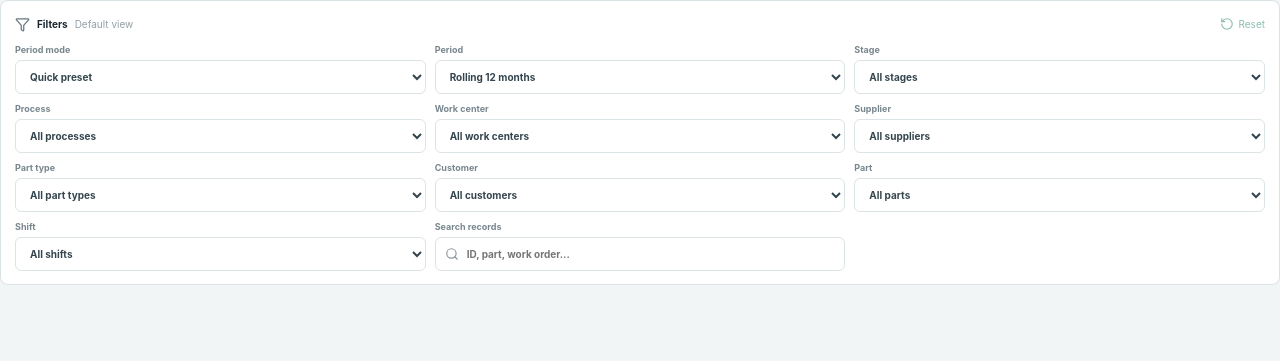
FilterPanel › applies a valid year range and blocks a reversed range
Select "Year range" in the dropdown labelled "Period mode" at (220, 77), box [15, 60, 426, 94]
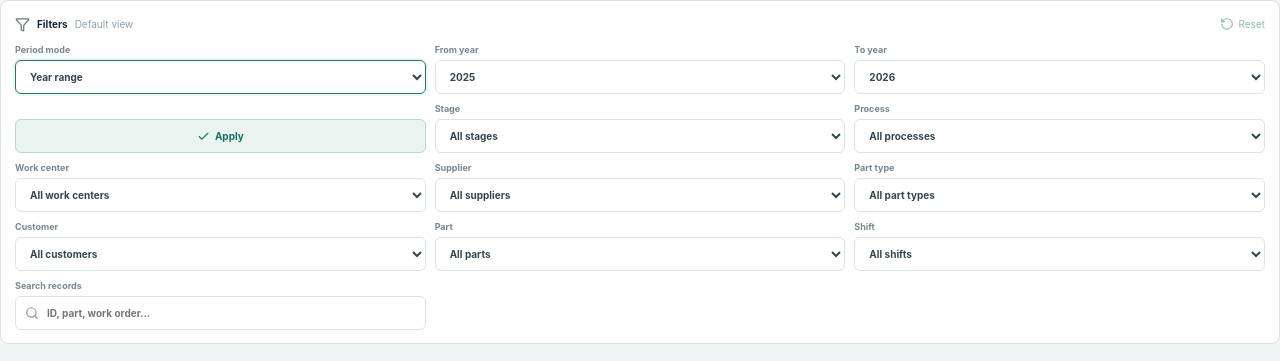
Select "2026" in the dropdown labelled "From year" at (640, 77), box [435, 60, 845, 94]
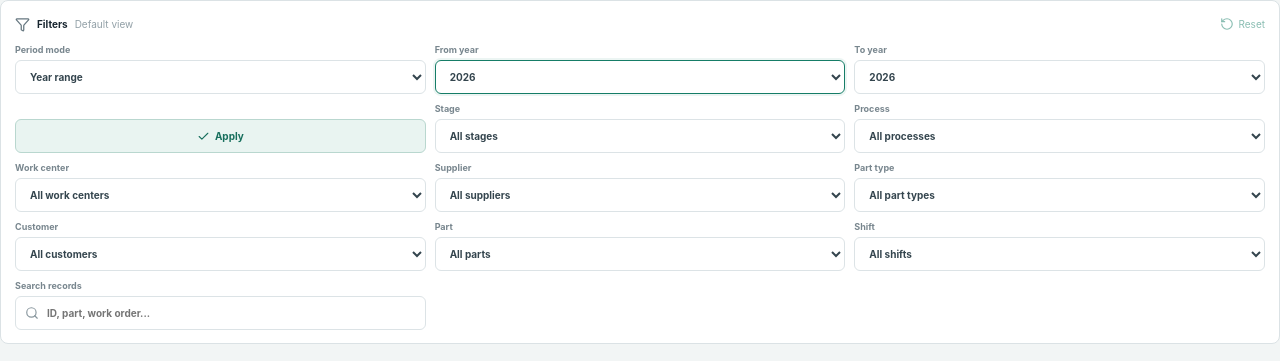
Select "2026" in the dropdown labelled "To year" at (1060, 77), box [854, 60, 1265, 94]
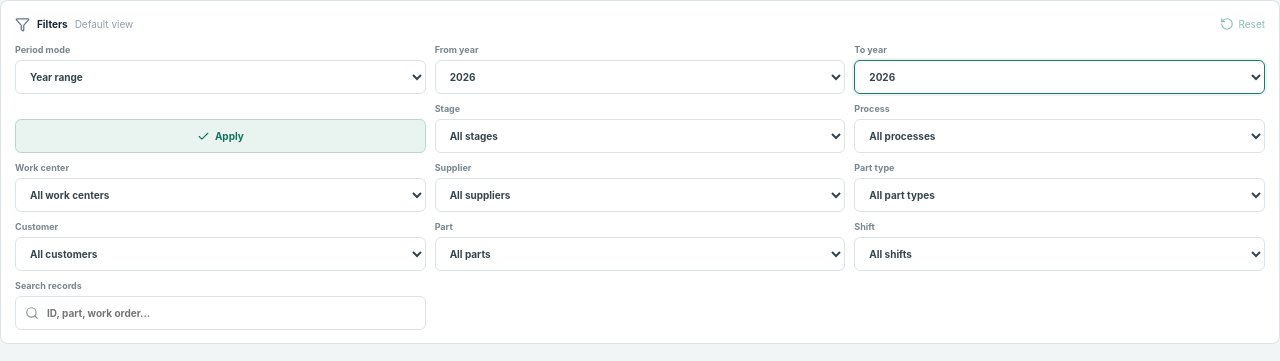
Click the button "Apply" at (220, 136), box [15, 119, 426, 153]
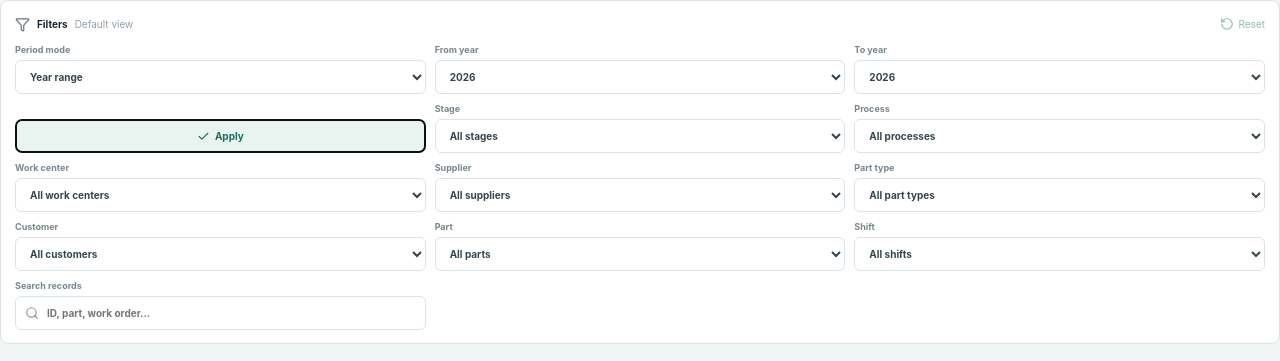
Select "2026" in the dropdown labelled "From year" at (640, 77), box [435, 60, 845, 94]
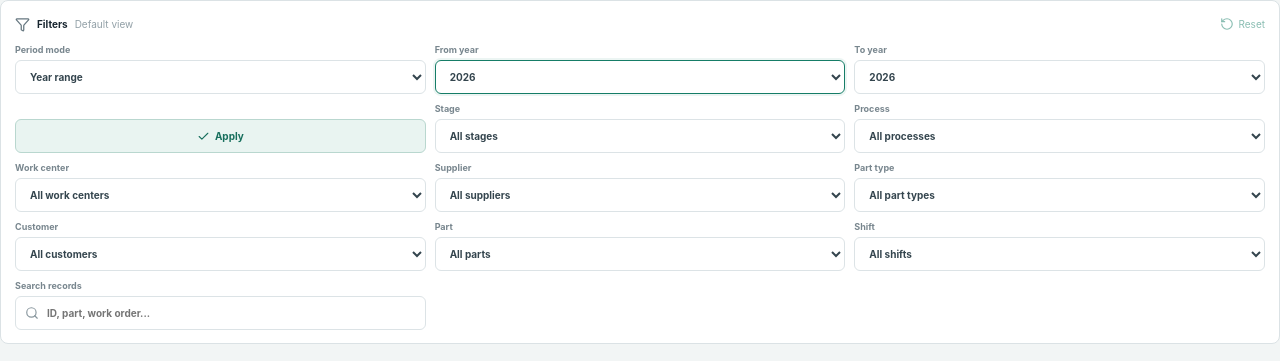
Select "2025" in the dropdown labelled "To year" at (1060, 77), box [854, 60, 1265, 94]
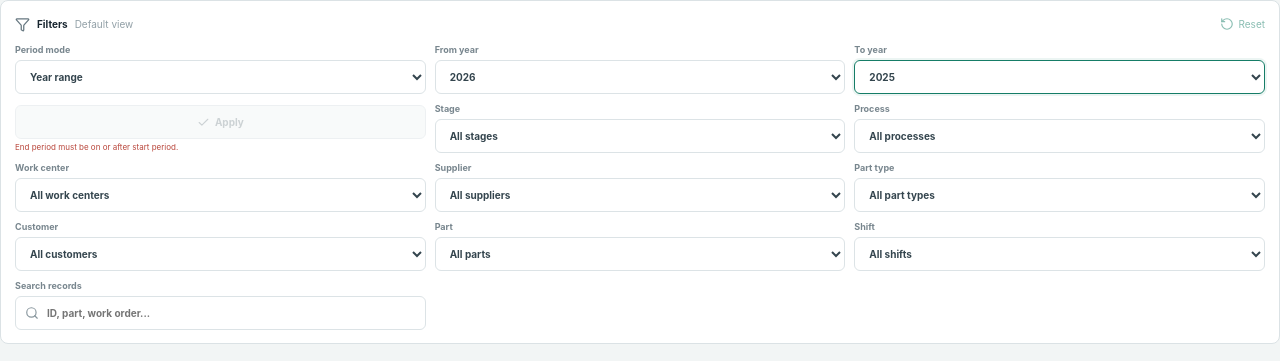
Now the button "Apply" is disabled, box [15, 105, 426, 139]
Now the message shows "End period must be on or after start period", box [15, 142, 178, 152]
